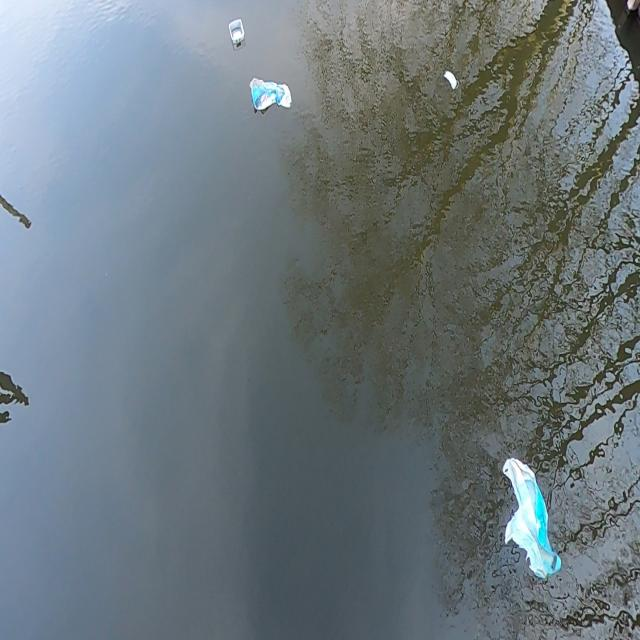Autre plastique: (227, 12, 248, 51)
Non plastique: (440, 66, 466, 95)
Sac plastique: (500, 446, 563, 588), (246, 72, 294, 115)
